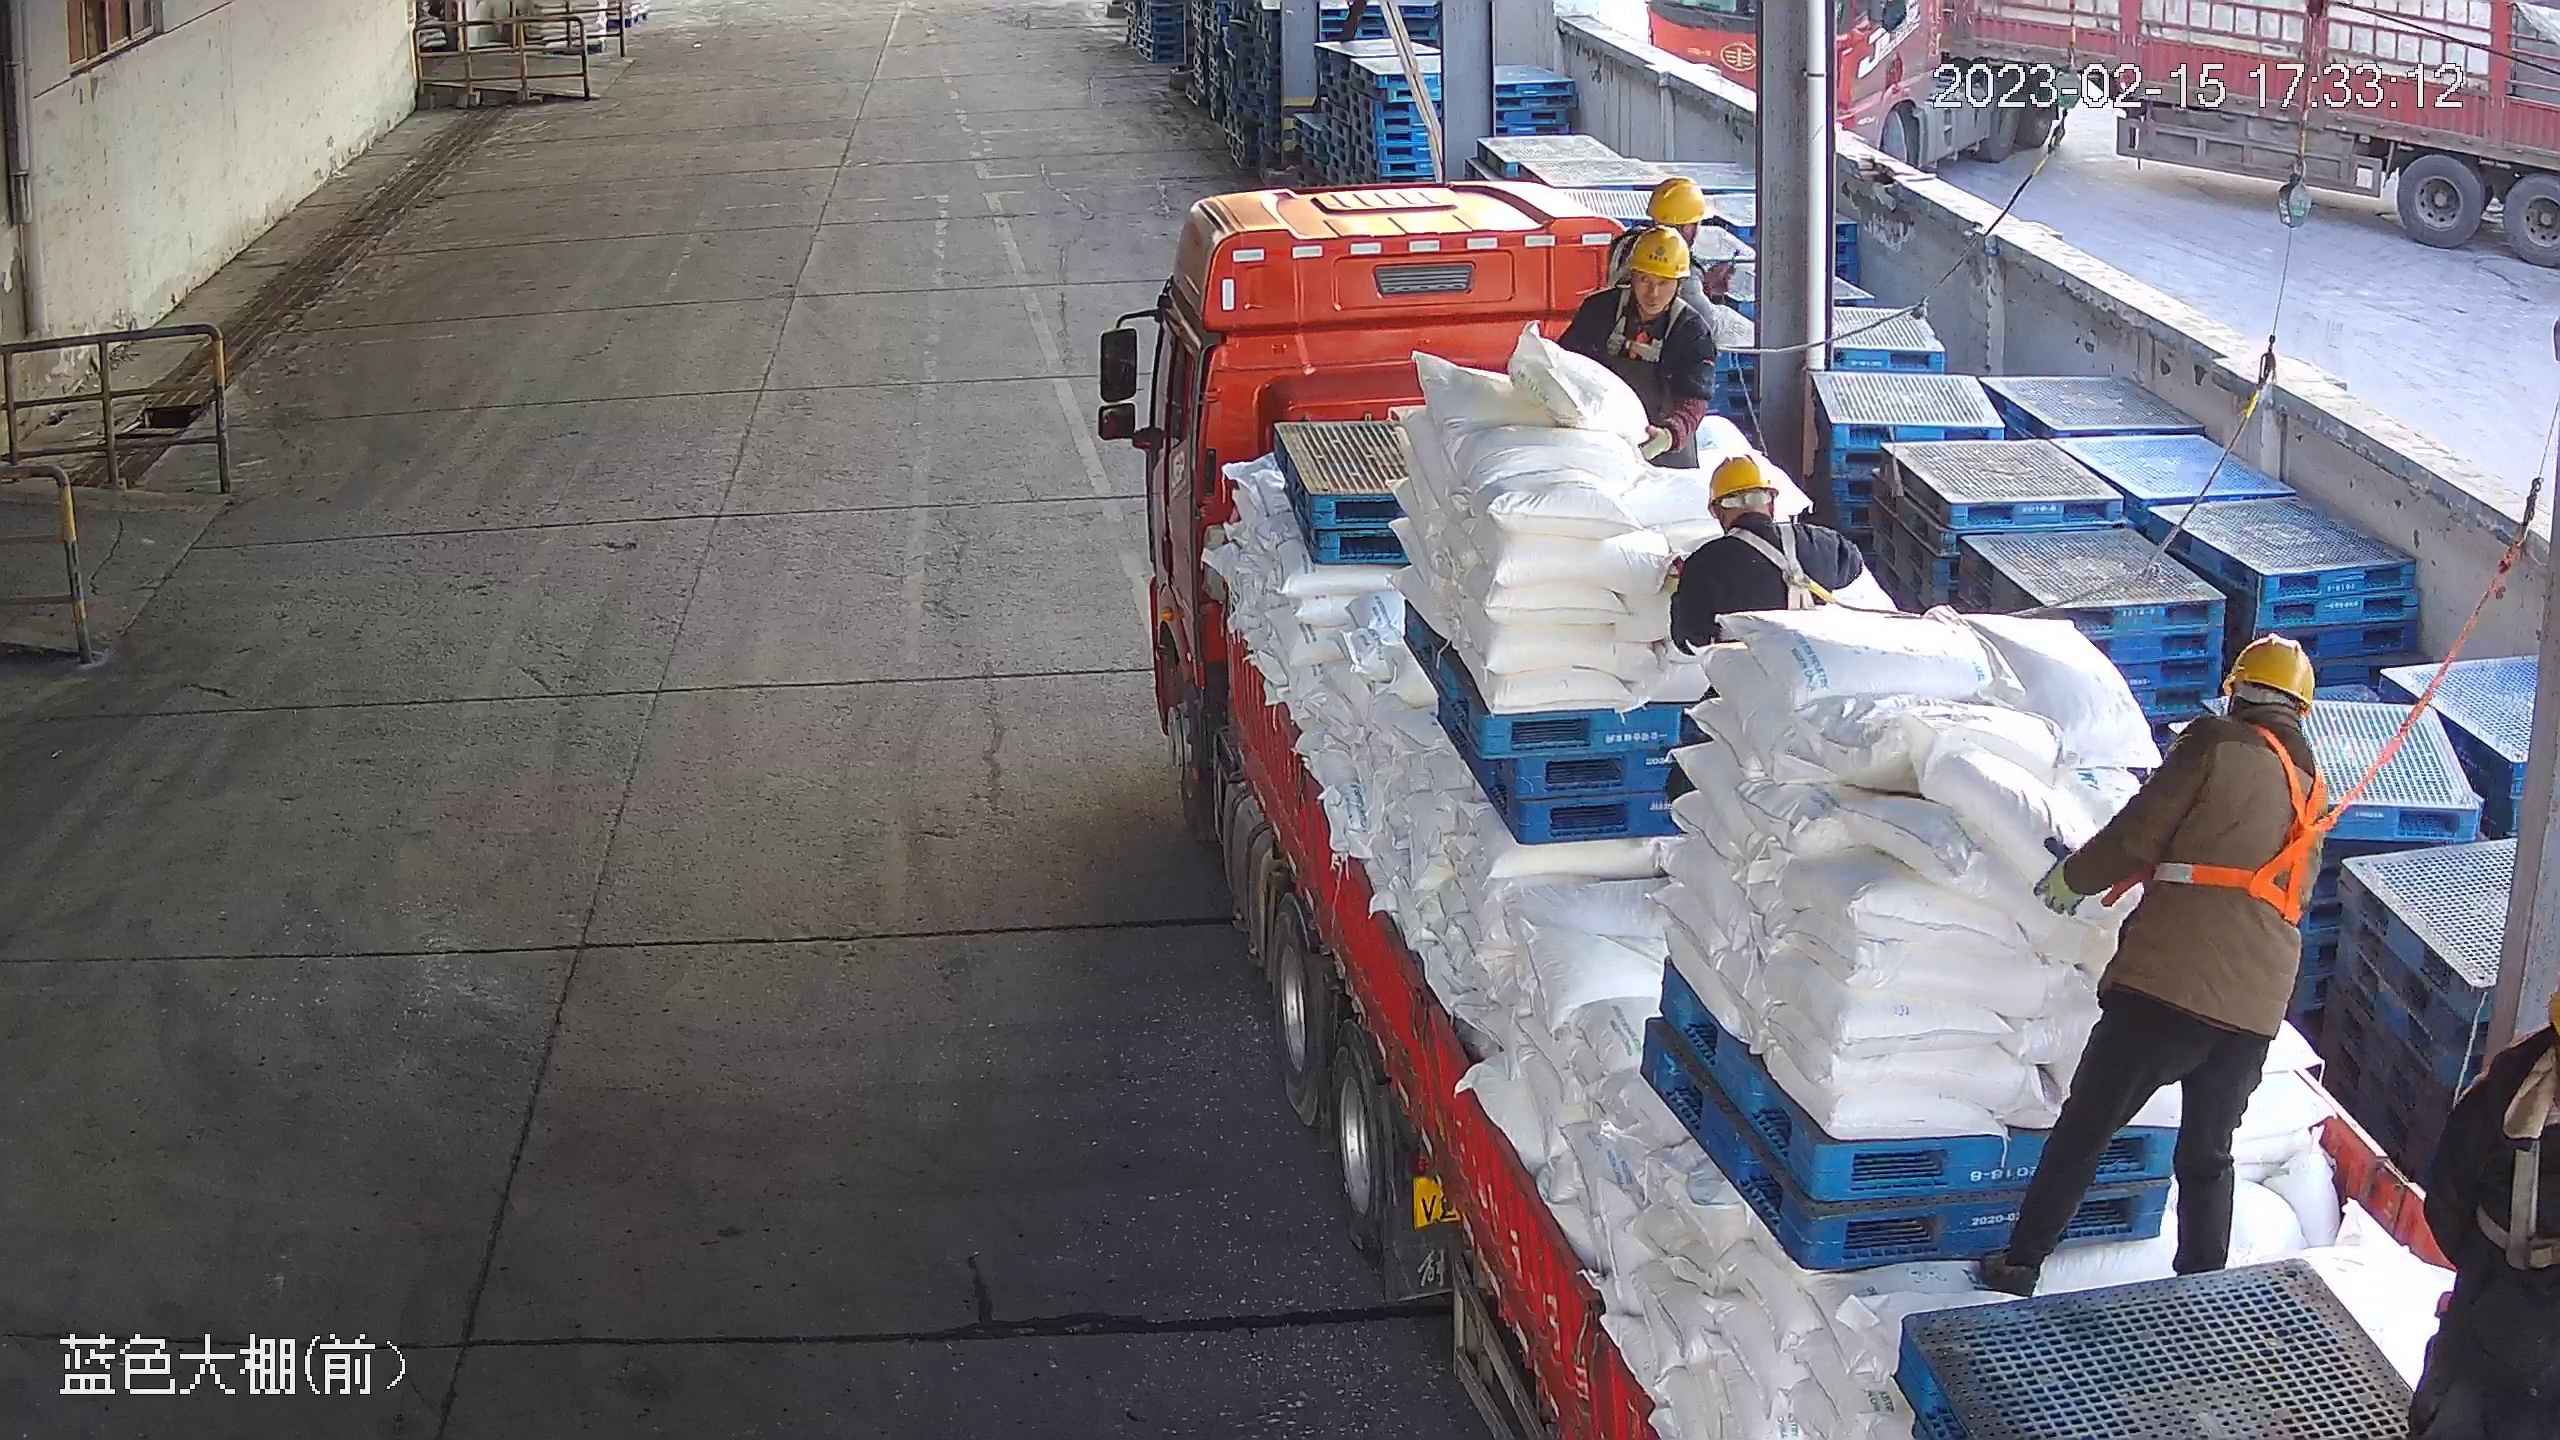belt: (2142, 714, 2380, 930), (1713, 517, 1849, 617), (1598, 286, 1741, 377)
head: (2163, 630, 2332, 778), (1665, 454, 1846, 571), (1574, 225, 1716, 353)
helmet: (2216, 630, 2316, 717), (1705, 453, 1781, 520), (1627, 224, 1692, 281), (1644, 176, 1707, 225)
people: (1969, 635, 2329, 1301), (1558, 226, 1719, 472)
truck: (1144, 185, 2560, 1440)
